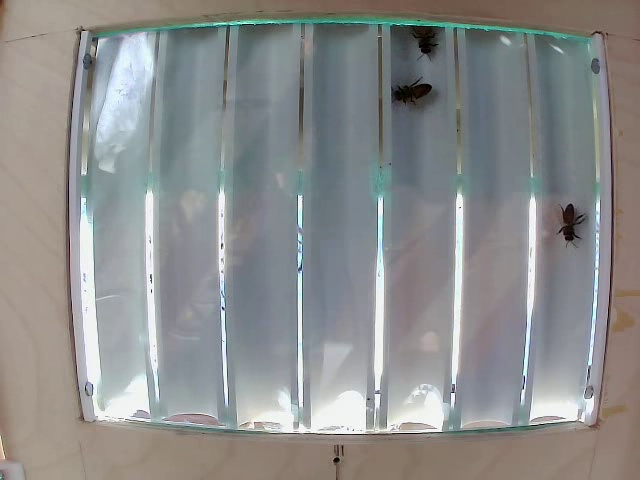bee: (552, 200, 596, 260), (395, 74, 444, 122), (404, 26, 453, 65)
